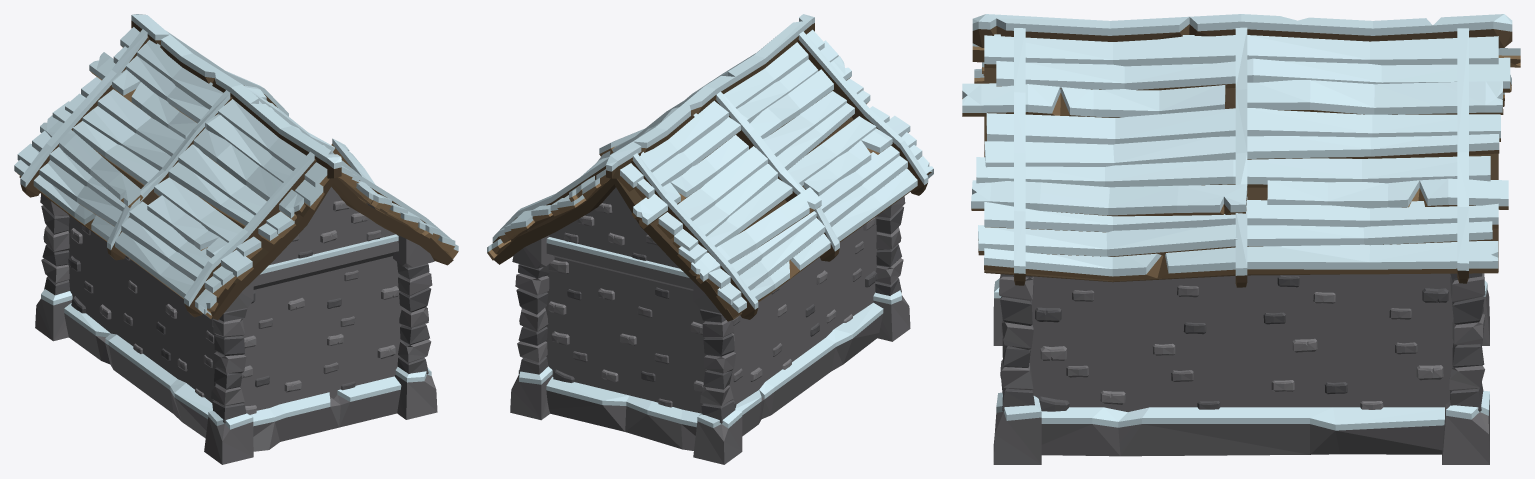
The model's file is SM_Bld_Church_Room_03_Snow.gltf.
3 renders of one model, left to right at view 1: azimuth 30°, elevation 25°; view 2: azimuth 150°, elevation 25°; view 3: azimuth 270°, elevation 25°, orthographic. The views are drawn at different scales.
Visible parts, largest first — view 1: SM_Bld_Church_Room_03_Snow; view 2: SM_Bld_Church_Room_03_Snow; view 3: SM_Bld_Church_Room_03_Snow.
Part boxes in pixels (left/top/right/bottom): SM_Bld_Church_Room_03_Snow: left=14, top=14, right=458, bottom=464; SM_Bld_Church_Room_03_Snow: left=487, top=14, right=933, bottom=464; SM_Bld_Church_Room_03_Snow: left=962, top=14, right=1520, bottom=464.
Size of the model in its own units: 6.42 by 6.53 by 8.75.
Materials: 1 (1 with a texture image).
